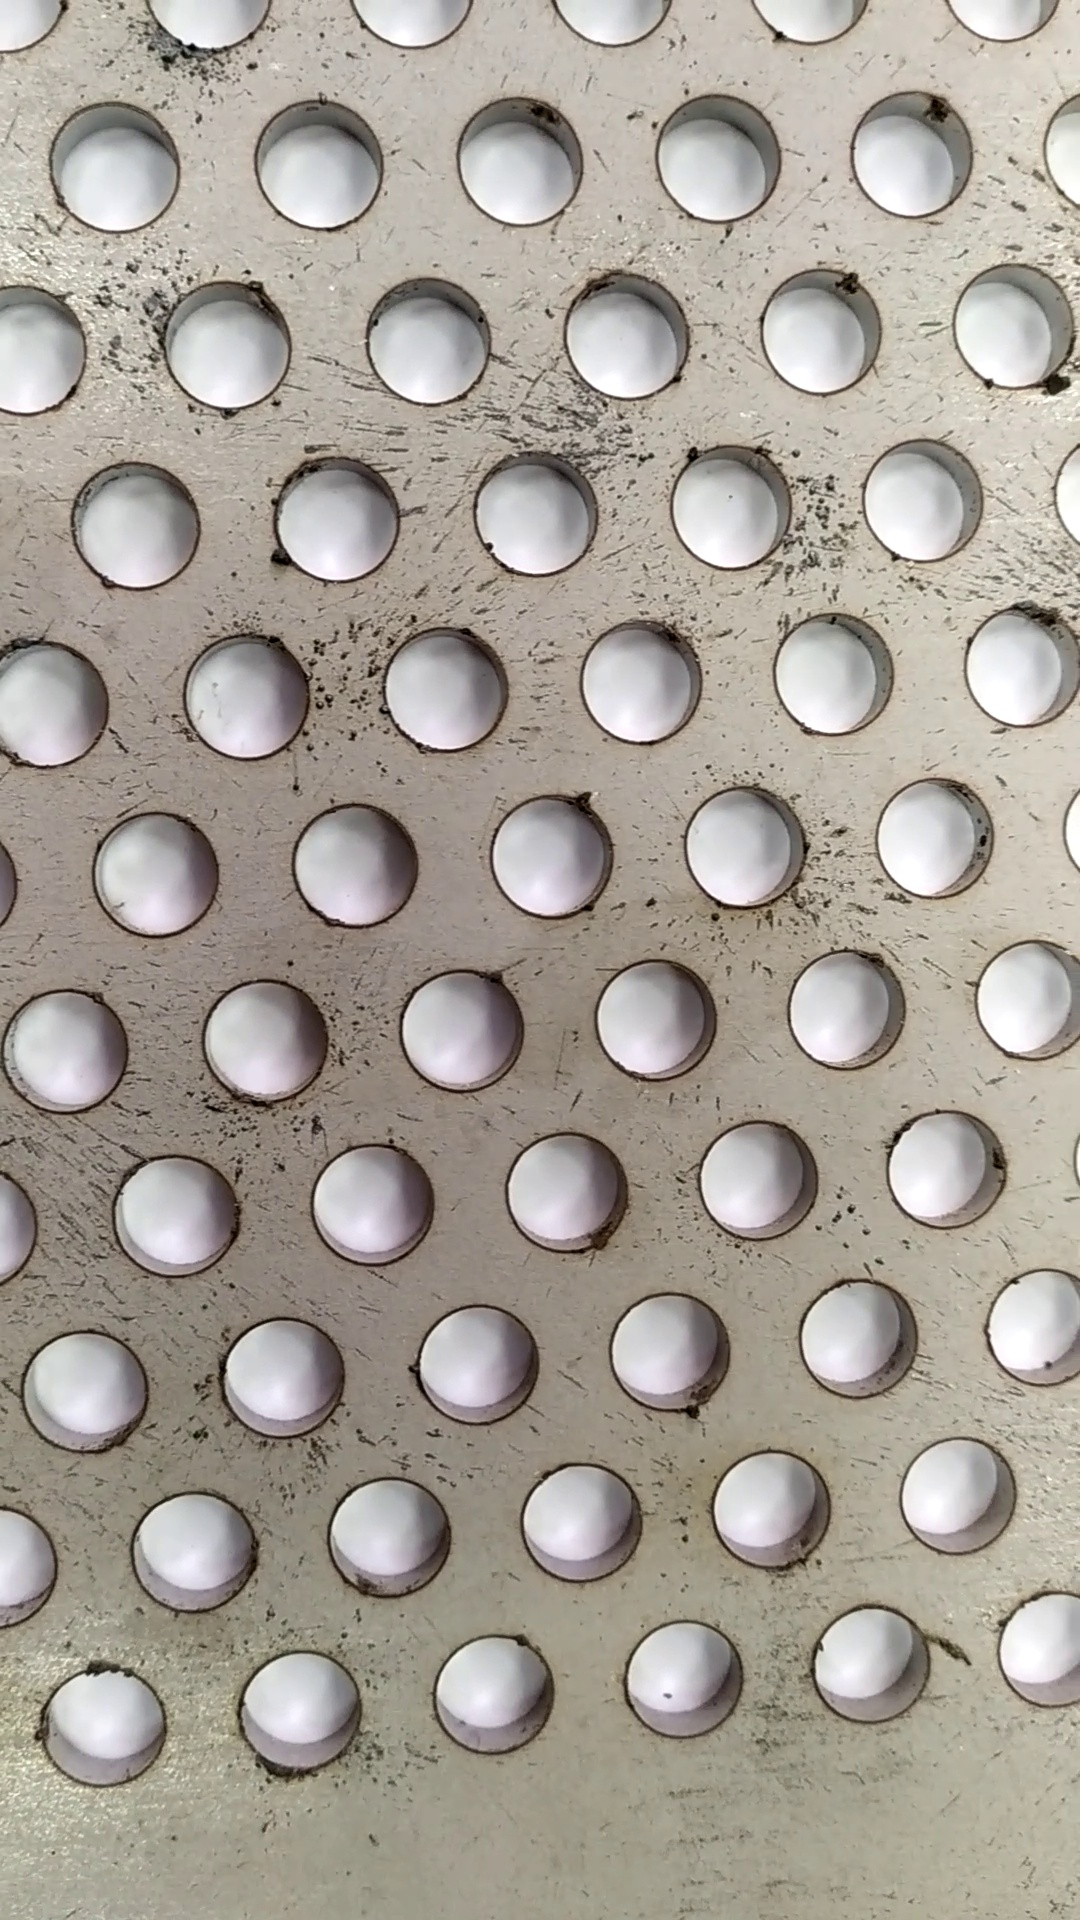Hole: (8, 1313, 164, 1466), (28, 1648, 177, 1805), (510, 1451, 667, 1596), (153, 266, 305, 415), (55, 452, 210, 599), (492, 1122, 647, 1266), (277, 791, 426, 940), (105, 1142, 257, 1288), (40, 91, 196, 232), (245, 91, 396, 236), (644, 80, 794, 225), (585, 948, 731, 1097), (791, 1262, 930, 1418), (225, 1644, 381, 1783), (551, 258, 694, 409), (756, 605, 905, 746), (849, 426, 1000, 566), (357, 273, 512, 409), (83, 800, 228, 944), (191, 973, 334, 1120), (305, 1134, 455, 1273), (596, 1283, 741, 1425), (872, 1098, 1022, 1236), (316, 1462, 458, 1607), (261, 450, 407, 589), (836, 76, 975, 224), (806, 1592, 943, 1741), (204, 1311, 355, 1447), (568, 611, 712, 752), (483, 781, 624, 924), (371, 618, 520, 754), (117, 1484, 269, 1617), (173, 624, 313, 767), (444, 88, 591, 224), (1, 978, 141, 1120), (673, 777, 818, 913), (612, 1609, 757, 1745), (426, 1629, 564, 1770), (462, 446, 604, 583), (661, 433, 798, 575), (940, 255, 1080, 393), (398, 1305, 553, 1429), (749, 264, 891, 397), (777, 942, 914, 1077), (389, 960, 527, 1095), (894, 1428, 1030, 1563), (688, 1117, 829, 1246), (708, 1443, 843, 1577), (869, 767, 996, 903), (955, 595, 1080, 732)
